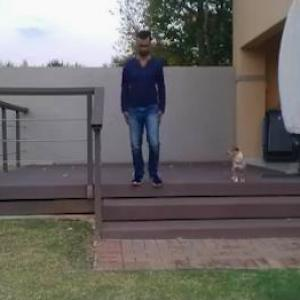follow: (119, 31, 159, 192)
